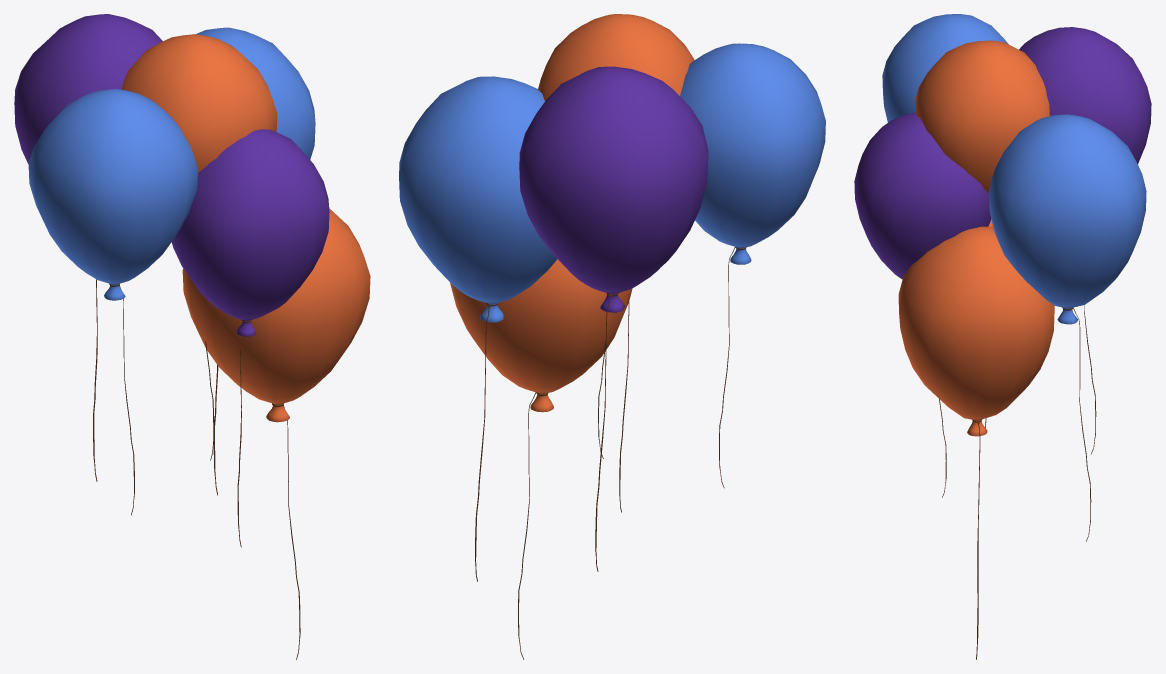
Rendered from ballons_cluster_purpleorangeblue.fbx.
3 renders of one model, left to right at view 1: azimuth 30°, elevation 25°; view 2: azimuth 150°, elevation 25°; view 3: azimuth 270°, elevation 25°, orthographic. The views are drawn at different scales.
Parts seen in each view (by area): view 1: Cube.032; view 2: Cube.032; view 3: Cube.032.
Boxes of the visible parts, x1=… form: Cube.032: x1=14, y1=14, x2=370, y2=659; Cube.032: x1=399, y1=14, x2=825, y2=659; Cube.032: x1=854, y1=14, x2=1151, y2=659.
Size of the model in its own units: 1027 by 1955 by 920.
Materials: 4 (4 with a texture image).
